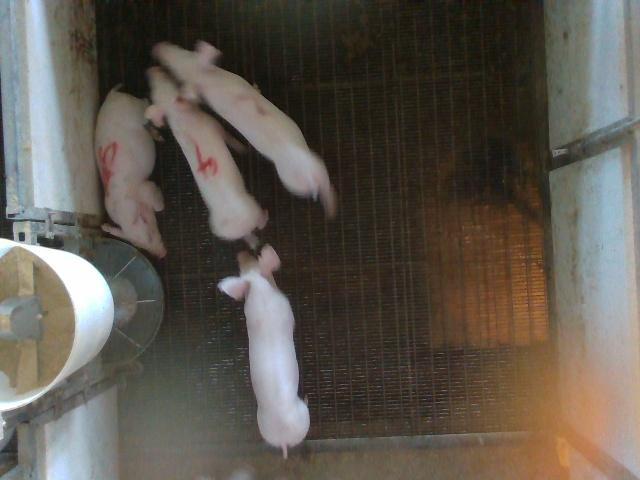pig-2: (152, 41, 336, 217)
pig-4: (145, 66, 268, 243)
pig-5: (95, 85, 166, 257)
